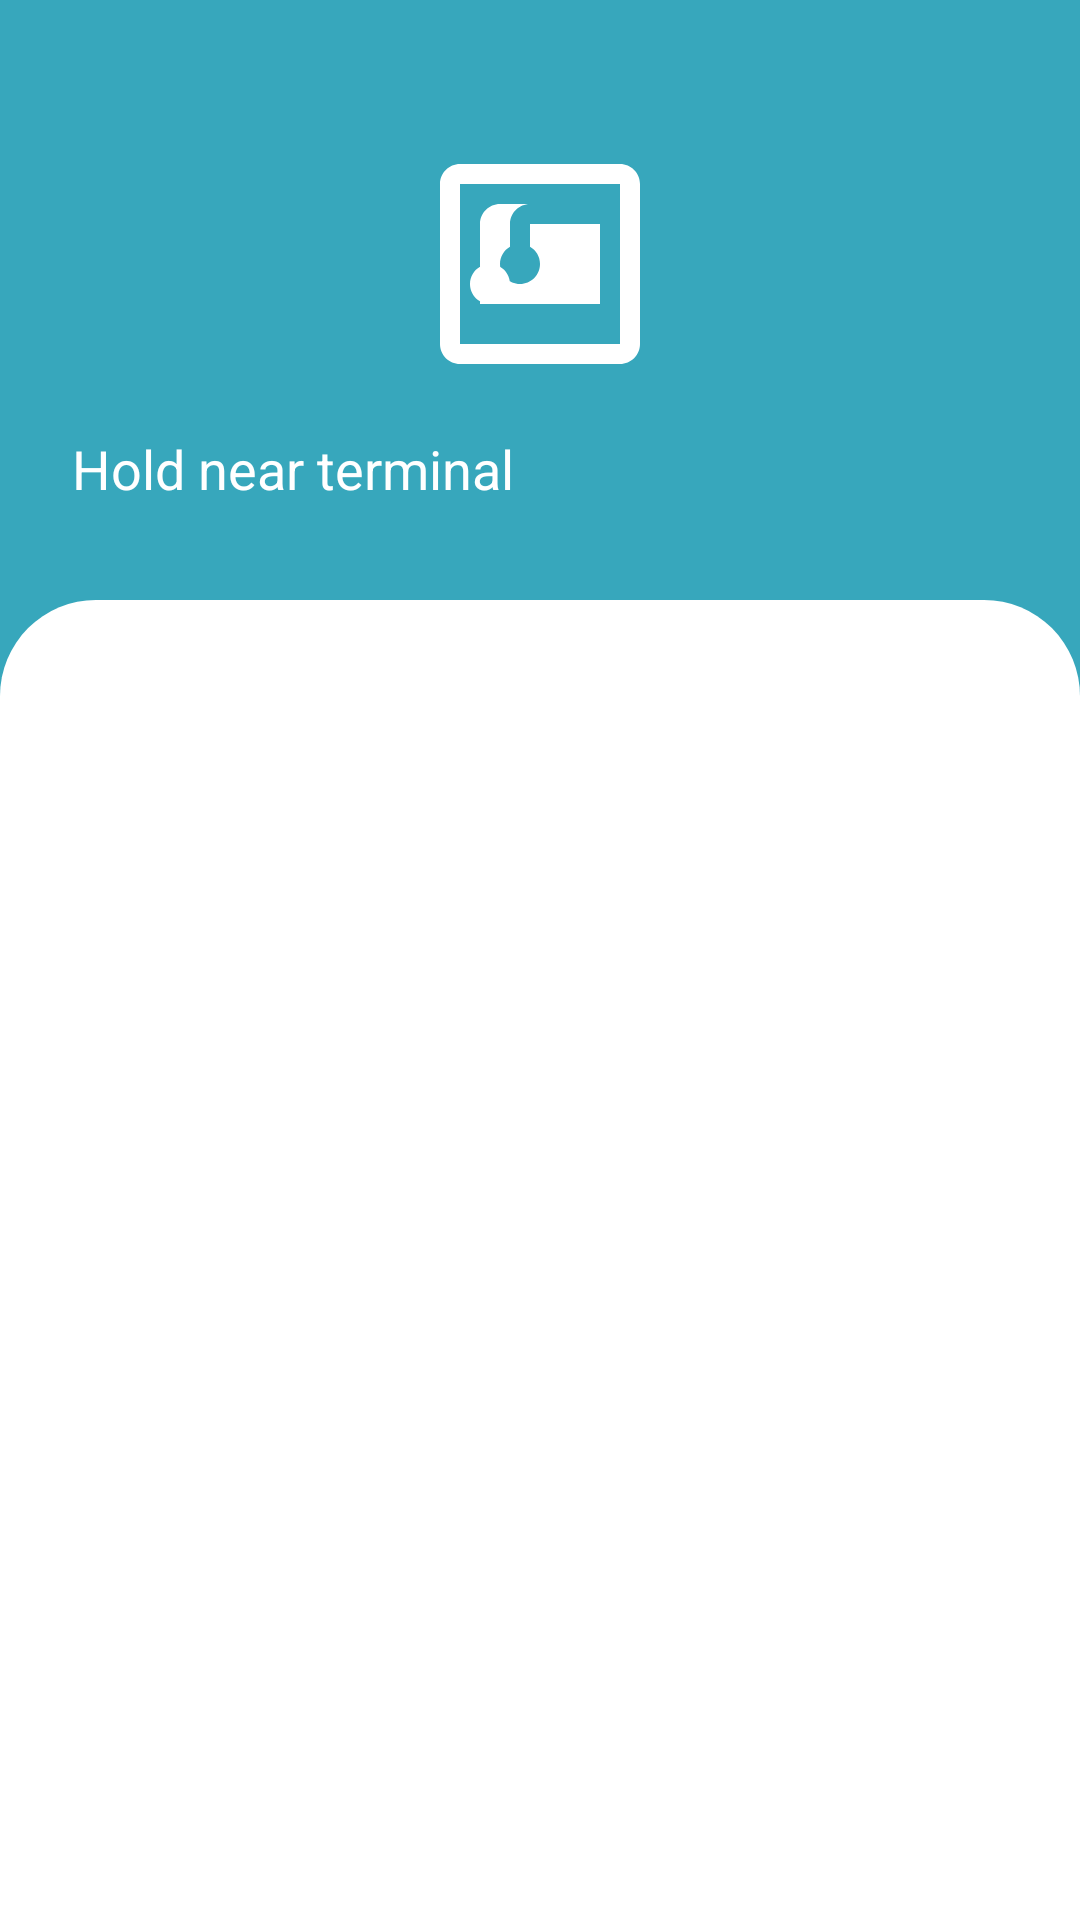

Icon bounding boxes for this 1080 x 1920 phone screenshot, format {"x1": x1, "y1": y1, "x2": x2, "y2": y2}:
nfc tap: {"x1": 440, "y1": 164, "x2": 640, "y2": 364}
